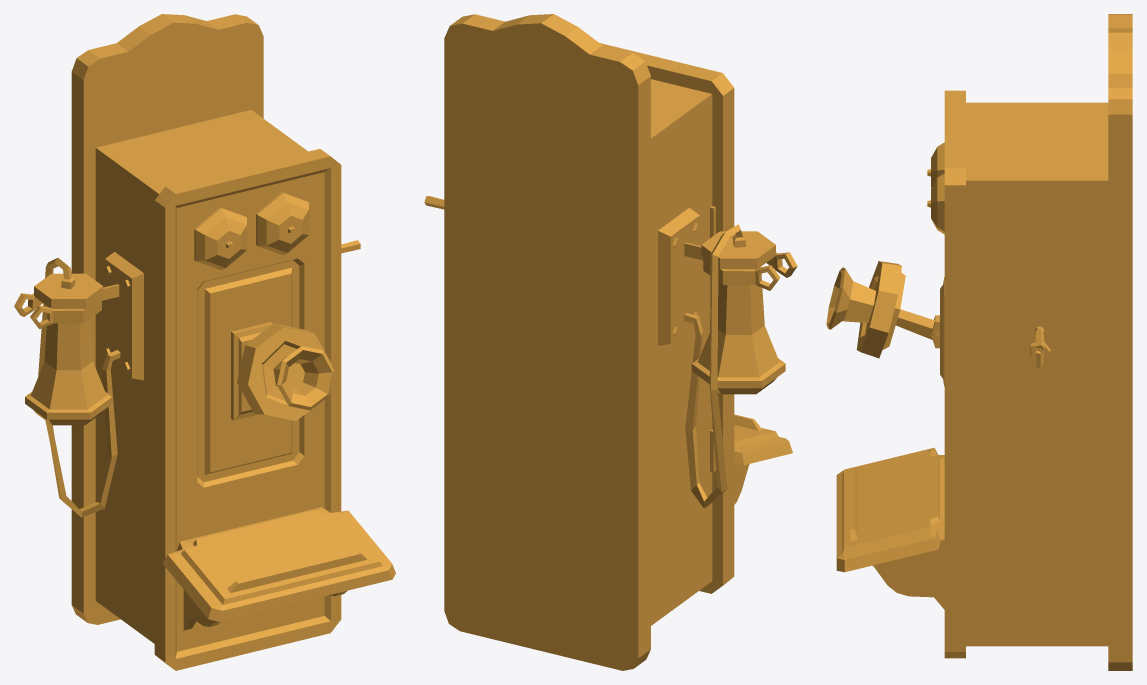
Rendered from SM_Telephone_Wall_Victorian.fbx.
3 views of the same model, side by side, from view 1: azimuth 30°, elevation 25°; view 2: azimuth 150°, elevation 25°; view 3: azimuth 270°, elevation 25° (orthographic). The views are drawn at different scales.
Visible parts, largest first — view 1: telephone-wall-victorian; view 2: telephone-wall-victorian; view 3: telephone-wall-victorian.
Boxes of the visible parts, left/top/right/bottom form: telephone-wall-victorian: left=14, top=14, right=395, bottom=670; telephone-wall-victorian: left=424, top=14, right=797, bottom=670; telephone-wall-victorian: left=826, top=14, right=1132, bottom=670.
Size of the model in its own units: 0.4098 by 0.6811 by 0.3152.
